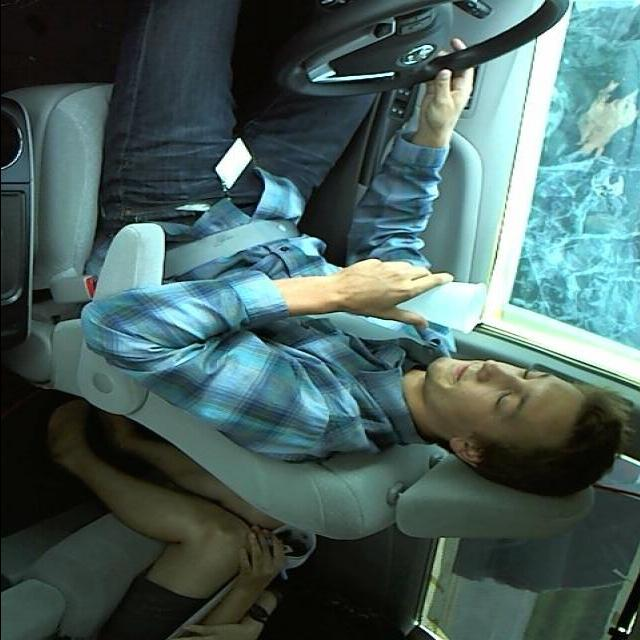drinking: (381, 272, 489, 334)
